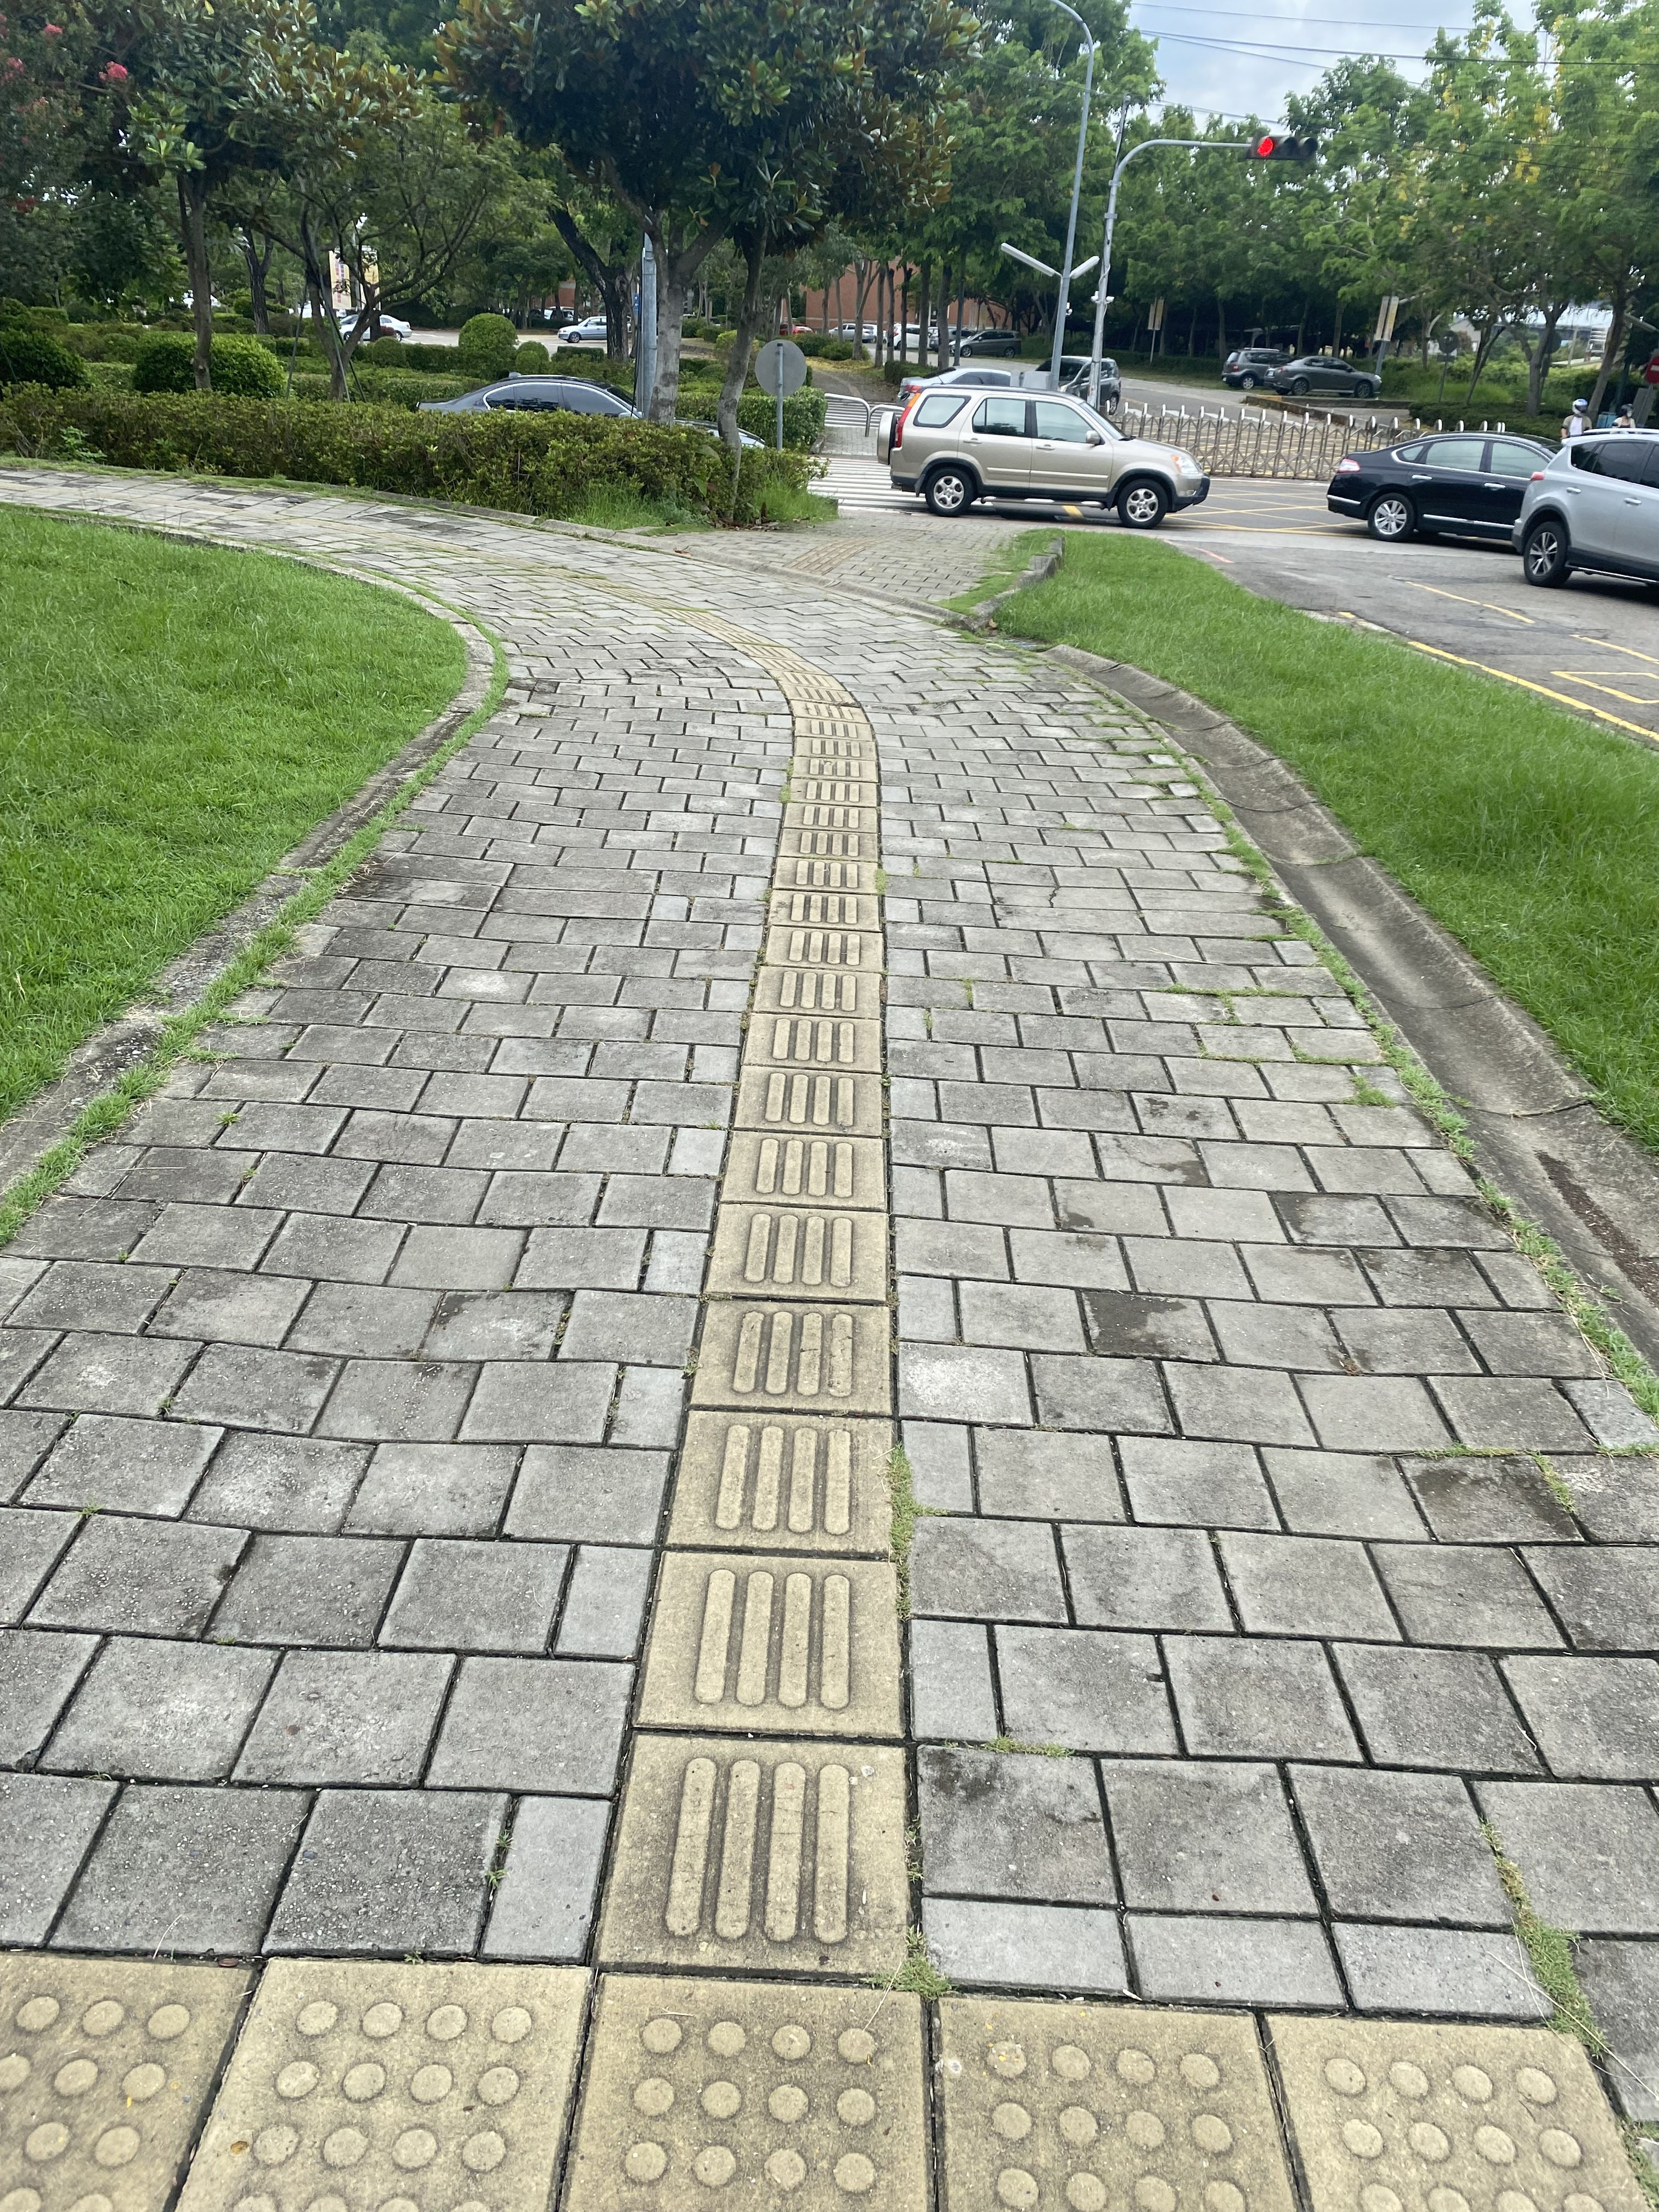sidewalk: (3, 437, 1659, 2212)
